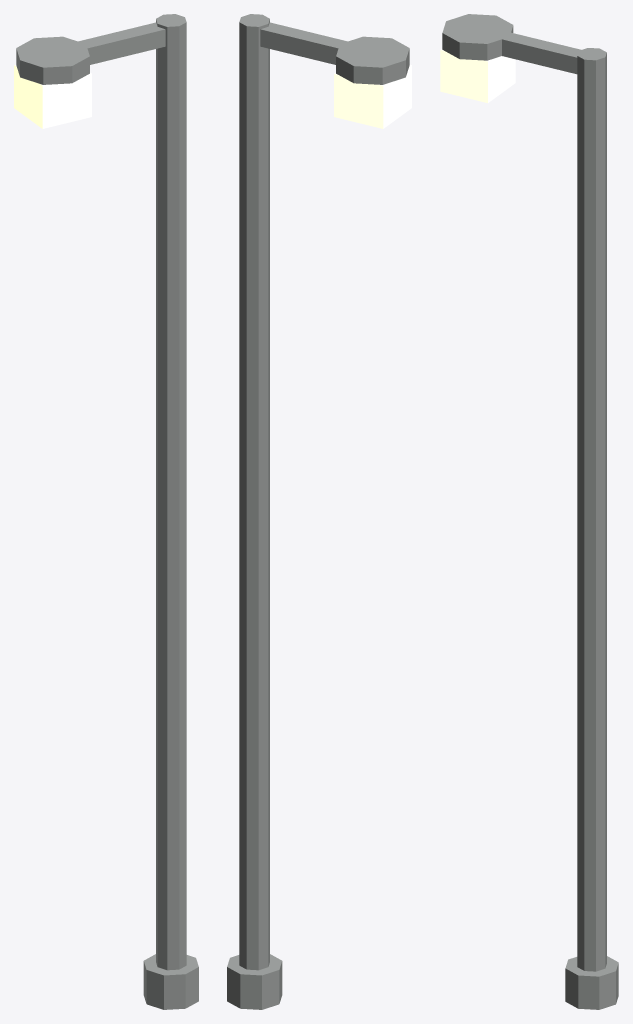
Rendered from jetty_lamp.glb.
3 views of the same model, side by side, from view 1: azimuth 30°, elevation 25°; view 2: azimuth 150°, elevation 25°; view 3: azimuth 330°, elevation 25° (orthographic). The views are drawn at different scales.
Visible parts, largest first — view 1: JettyLamp; view 2: JettyLamp; view 3: JettyLamp.
Boxes of the visible parts, x1=… form: JettyLamp: x1=14, y1=14, x2=198, y2=1009; JettyLamp: x1=227, y1=14, x2=411, y2=1009; JettyLamp: x1=440, y1=14, x2=618, y2=1009.
Size of what is drawn, in the model's own units: 0.64 by 3.4 by 0.24.
